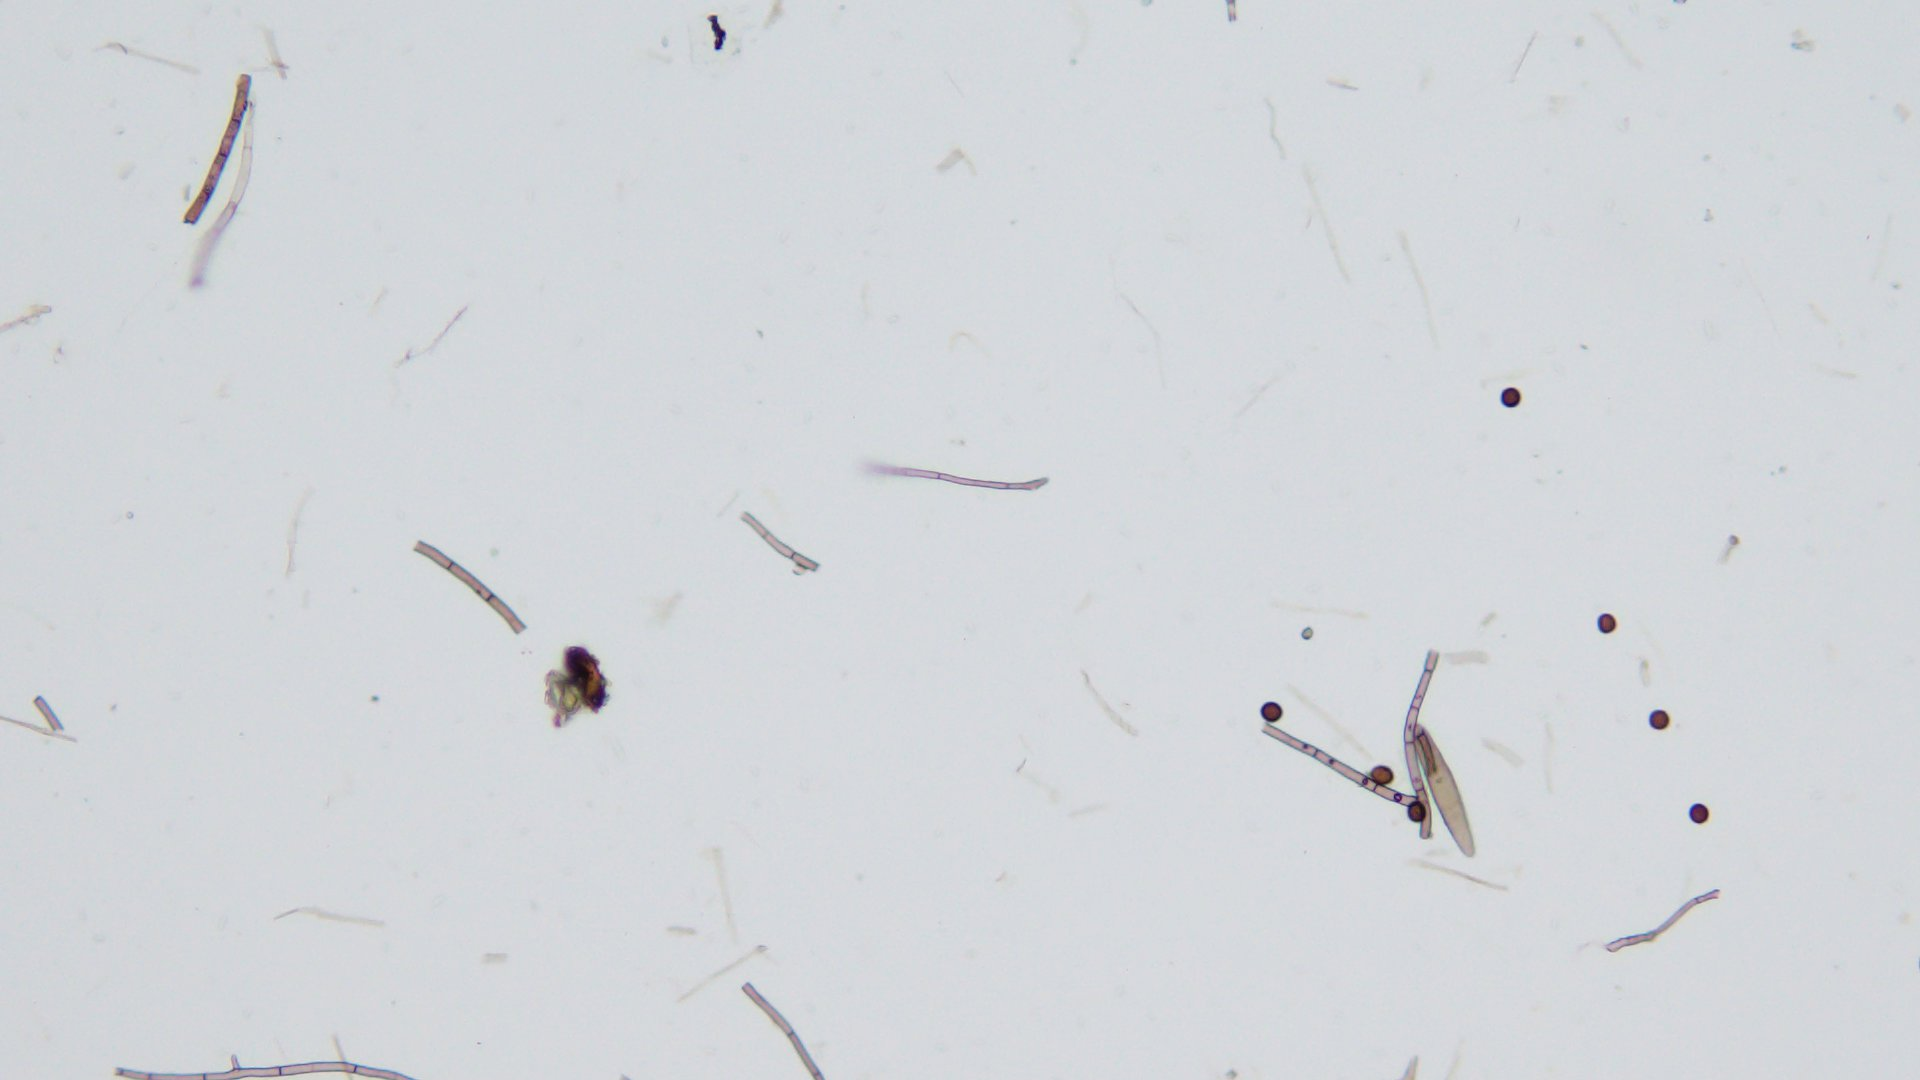dbb_spore: (1414, 725, 1476, 856)
shs_spore: (1258, 702, 1284, 723), (1369, 765, 1394, 786), (1689, 803, 1710, 825), (1648, 709, 1669, 731), (1406, 802, 1427, 822), (1501, 386, 1520, 407), (1597, 615, 1615, 633)
